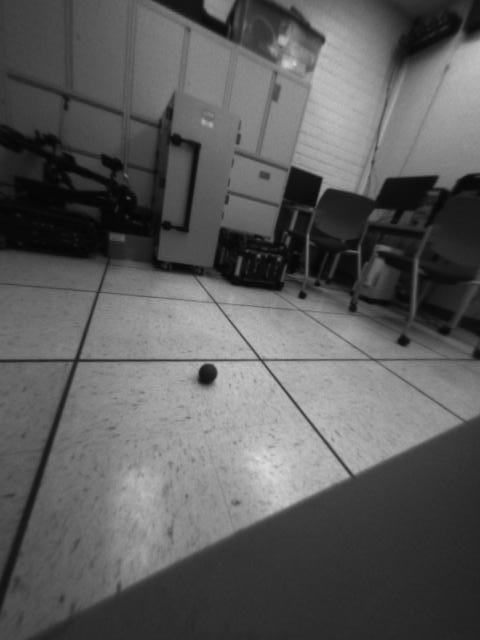dogtoy: (192, 358, 229, 393)
